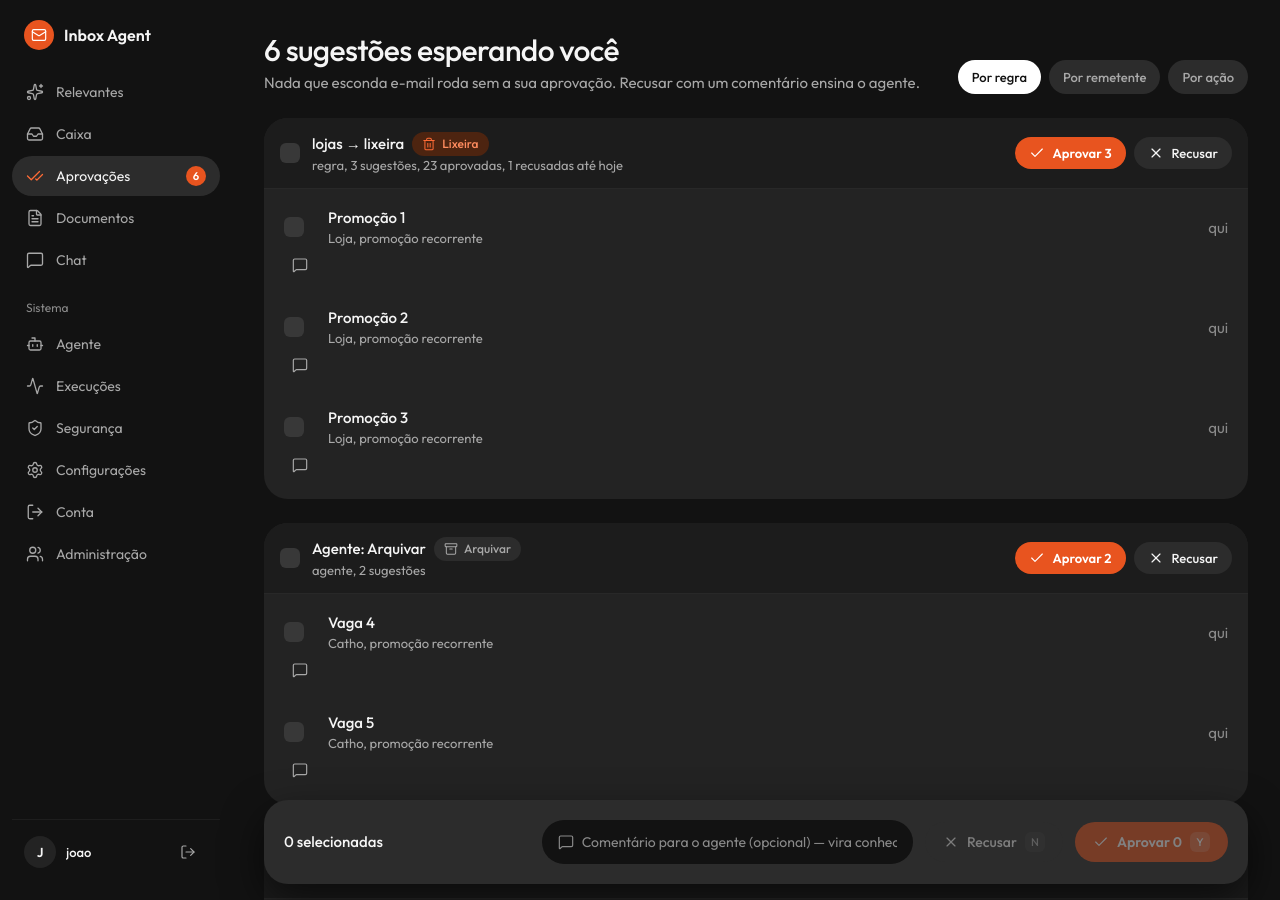
Test: rate_limit_and_csrf_errors_show_messages_and_keep_the_selection
This screenshot has width=1280, height=900.
Click the checkbox that starts with "lojas → lixeira" at x=452, y=153, box [280,132,623,174]
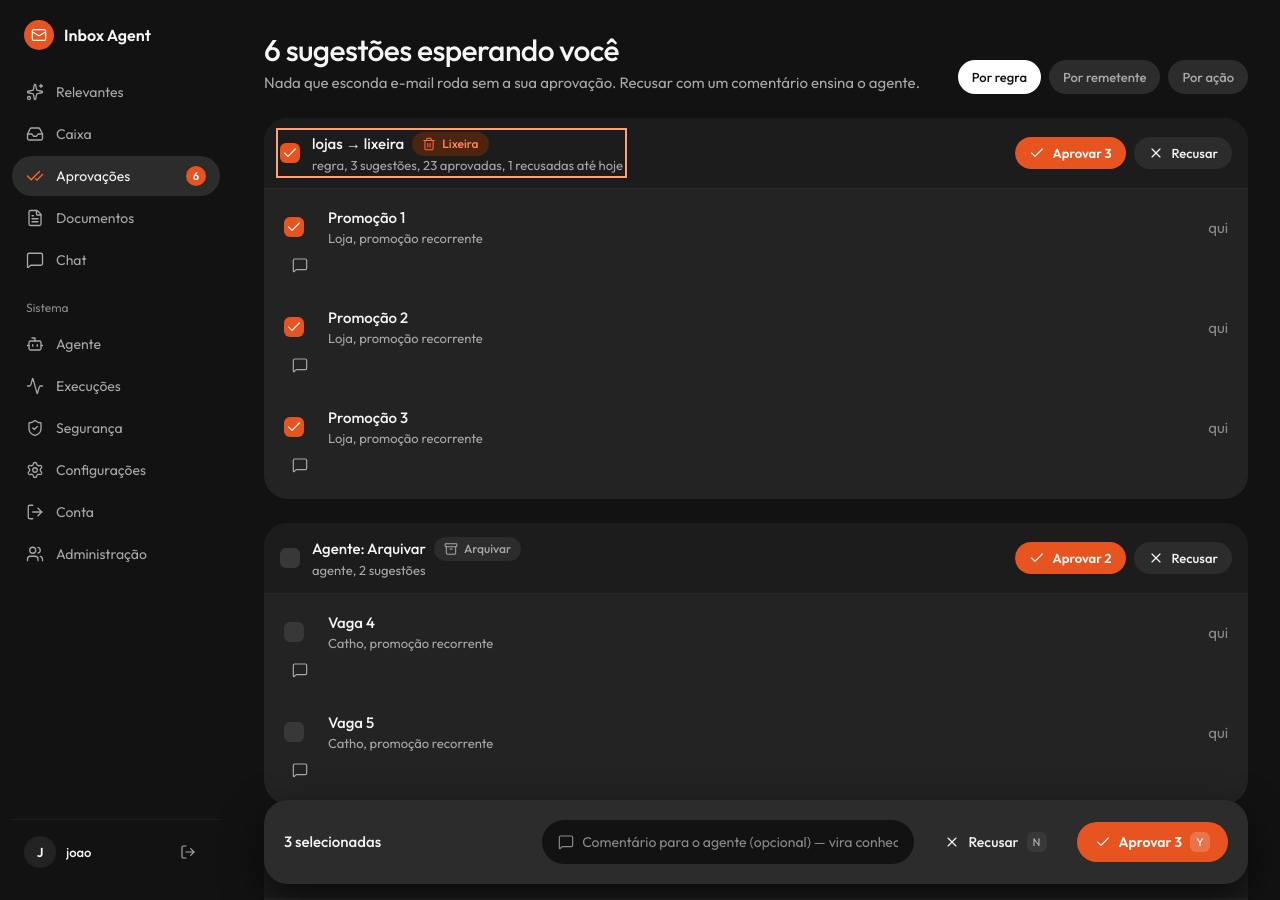
Click the button "Aprovar 3 Y" at x=1152, y=842, box [1076,822,1228,862]
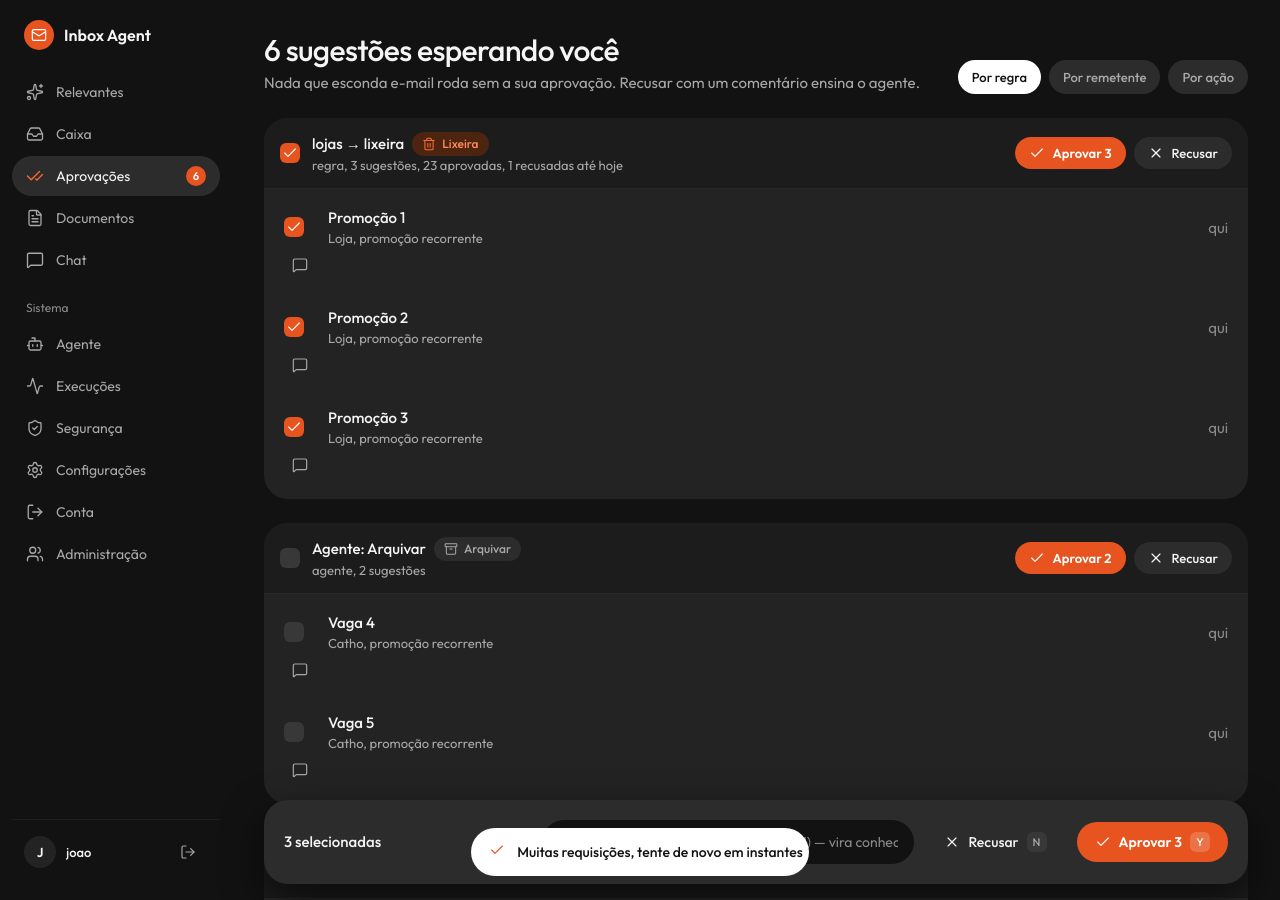
Expected: the text "3 selecionadas" is shown, [284,832,381,851]
Expected: the text "Muitas requisições, tente de novo em instantes" is shown, [517,843,803,861]
Click the button "Aprovar 3 Y" at x=1152, y=842, box [1076,822,1228,862]
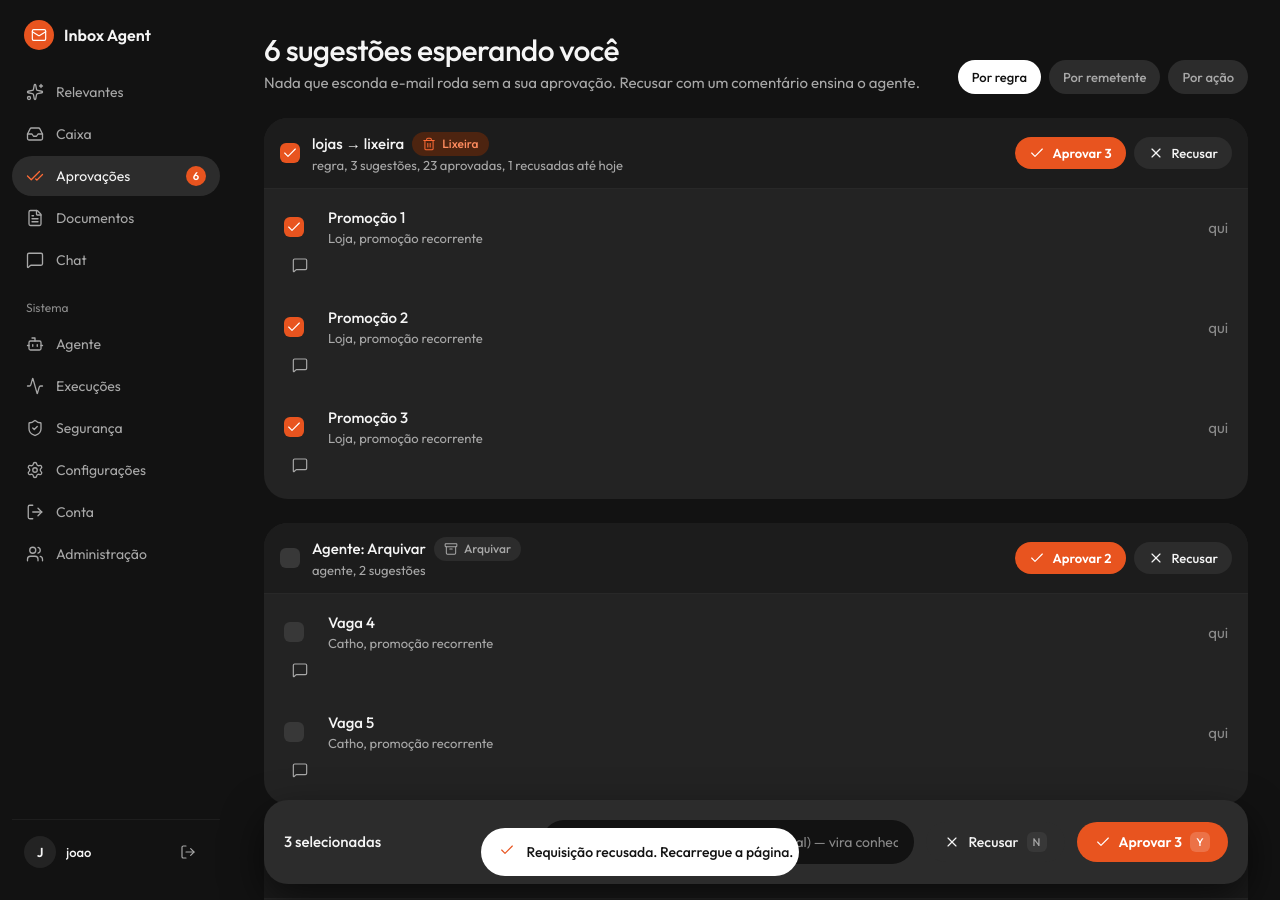
Expected: the text "3 selecionadas" is shown, [284,832,381,851]
Expected: the text "Requisição recusada. Recarregue a página." is shown, [527,843,794,861]
